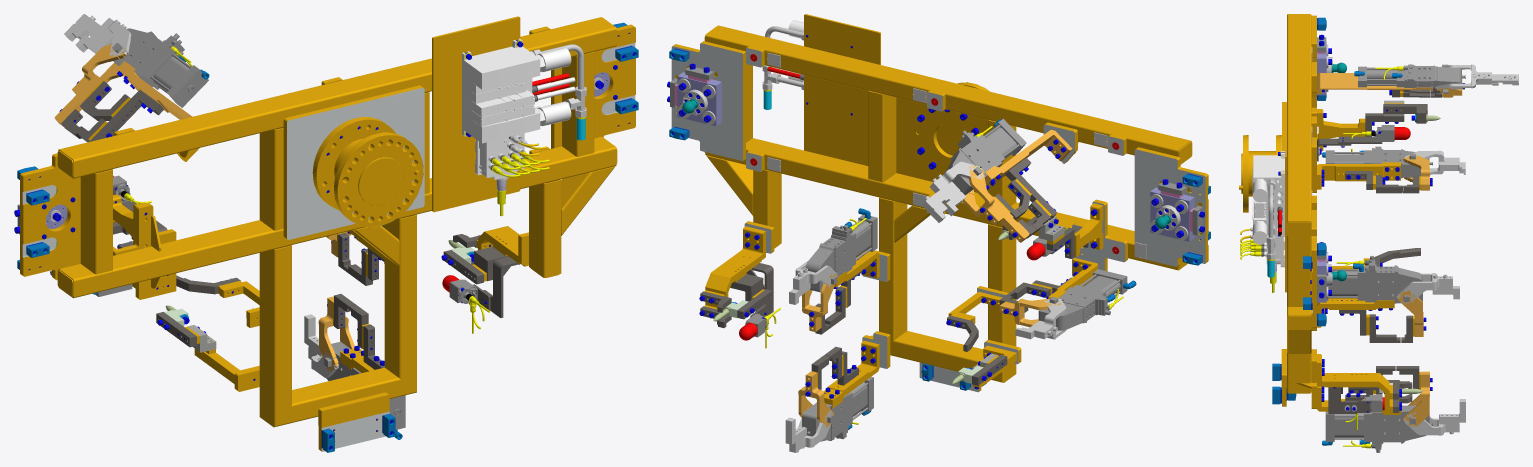
3 views of the same model, side by side, from view 1: azimuth 30°, elevation 25°; view 2: azimuth 150°, elevation 25°; view 3: azimuth 270°, elevation 25° (orthographic). The views are drawn at different scales.
Parts seen in each view (by area): view 1: Ext_01_solid (×7), 300_009_Tube_02, 300_014_Tube, Ext_19, 300_019_Tube_01, Ext_02_solid, 300_019_Tube_06, POWER_CLAMP (×2), 300_009_Tube_01, 300_019_Tube, 300_019_Tube_05, TUENKERS_KPL_50_A80_278956_SPANNARM_sat01_solid (×3) (+18 smaller); view 2: Ext_01_solid (×8), 300_009_Tube_02, POWER_CLAMP (×4), Ext_19, 300_014_Tube, TUENKERS_KPL_50_A80_278956_SPANNARM_sat01_solid (×8), 300_019_Tube_06, 300_019_Tube_01, 300_019_Tube_04, 300_009_Tube_01, block_pdl_3_solid (×2), Ext_04_solid (+13 smaller); view 3: POWER_CLAMP (×4), 300_009_Tube_02, Ext_01_solid (×6), TUENKERS_KPL_50_A80_278956_SPANNARM_sat01_solid (×7), Ext_02_solid (×5), 300_019_Tube_02, Ext_04_solid, RISER_solid, S13, 301_solid (×2), 300_019_Tube_05, 300_019_Tube_07 (+11 smaller).
Part boxes in pixels (x1,y1,x2,y2): Ext_01_solid (×7): (20, 24, 635, 451); 300_009_Tube_02: (58, 17, 616, 178); 300_014_Tube: (58, 136, 616, 298); Ext_19: (432, 16, 520, 212); 300_019_Tube_01: (259, 245, 291, 427); Ext_02_solid: (334, 132, 423, 227); 300_019_Tube_06: (384, 214, 416, 391); POWER_CLAMP (×2): (110, 28, 405, 429); 300_009_Tube_01: (275, 367, 416, 426); 300_019_Tube: (80, 169, 112, 274); 300_019_Tube_05: (529, 179, 561, 277); TUENKERS_KPL_50_A80_278956_SPANNARM_sat01_solid (×3): (72, 18, 354, 371); Ext_01_solid (×8): (671, 41, 1208, 408); 300_009_Tube_02: (705, 25, 1191, 156); POWER_CLAMP (×4): (802, 119, 1127, 441); Ext_19: (804, 14, 880, 165); 300_014_Tube: (705, 138, 1179, 270); TUENKERS_KPL_50_A80_278956_SPANNARM_sat01_solid (×8): (789, 161, 1066, 452); 300_019_Tube_06: (879, 197, 907, 343); 300_019_Tube_01: (988, 224, 1016, 382); 300_019_Tube_04: (868, 90, 896, 182); 300_009_Tube_01: (890, 331, 1002, 382); block_pdl_3_solid (×2): (677, 72, 1194, 241); Ext_04_solid: (705, 226, 765, 307); POWER_CLAMP (×4): (1325, 64, 1465, 452); 300_009_Tube_02: (1287, 14, 1311, 236); Ext_01_solid (×6): (1281, 109, 1400, 406); TUENKERS_KPL_50_A80_278956_SPANNARM_sat01_solid (×7): (1396, 64, 1491, 435); Ext_02_solid (×5): (1243, 135, 1465, 422); 300_019_Tube_02: (1287, 235, 1311, 306); Ext_04_solid: (1317, 354, 1389, 413); RISER_solid: (1317, 73, 1432, 93); S13: (1252, 151, 1284, 190); 301_solid (×2): (1365, 113, 1420, 266); 300_019_Tube_05: (1287, 353, 1311, 382); 300_019_Tube_07: (1287, 329, 1311, 353).
Bounding box in the file's own units: 1.72 × 1.13 × 0.8637.
